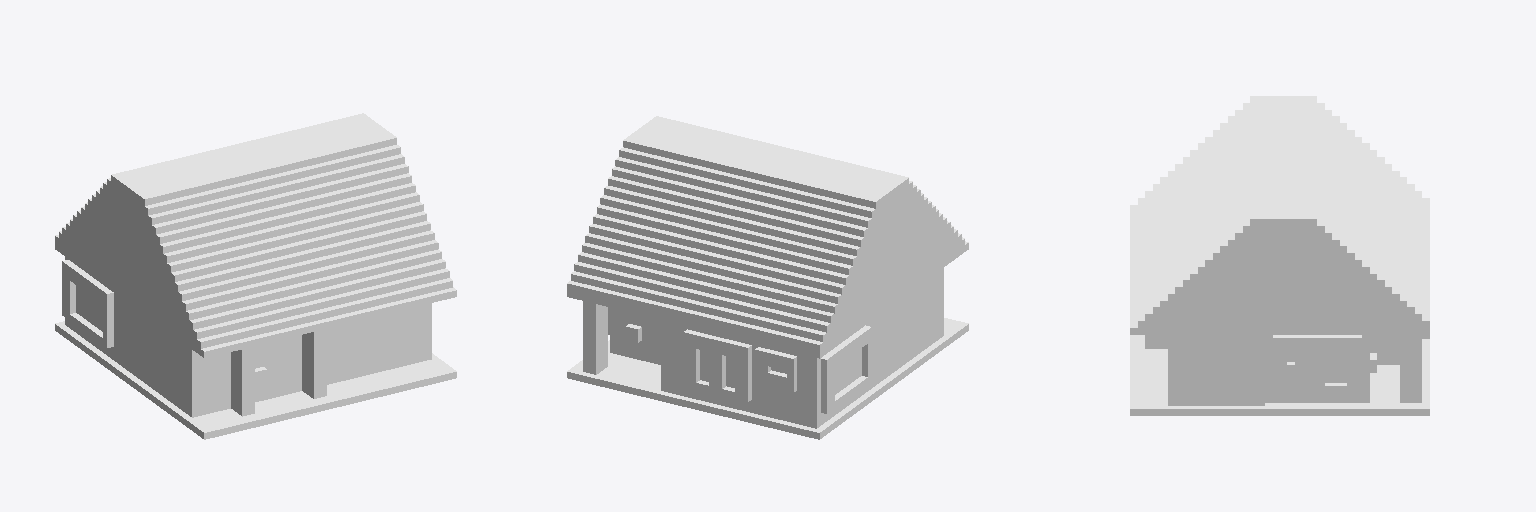
The model's file is privatebuilding.obj.
3 renders of one model, left to right at view 1: azimuth 30°, elevation 25°; view 2: azimuth 150°, elevation 25°; view 3: azimuth 270°, elevation 25°, orthographic.
Bounding box in the file's own units: 1 × 0.7436 × 1.03.